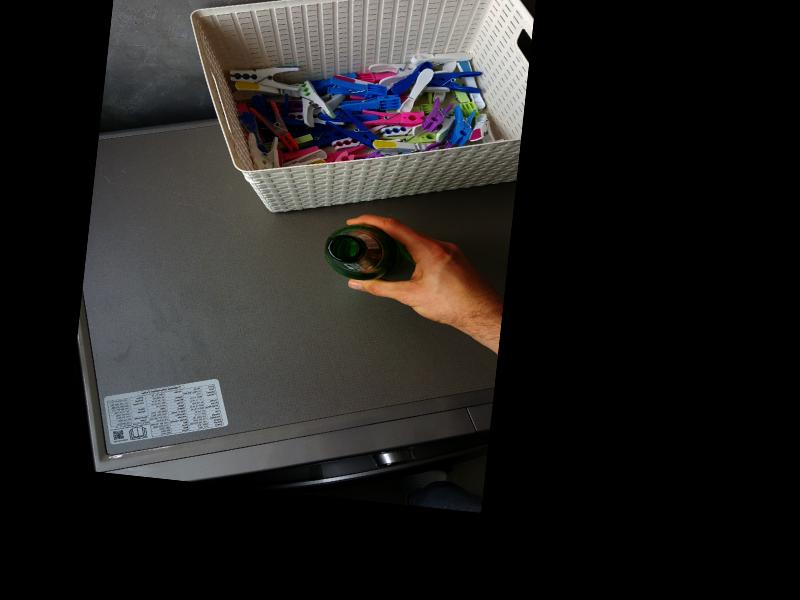Beer: (321, 221, 405, 284)
